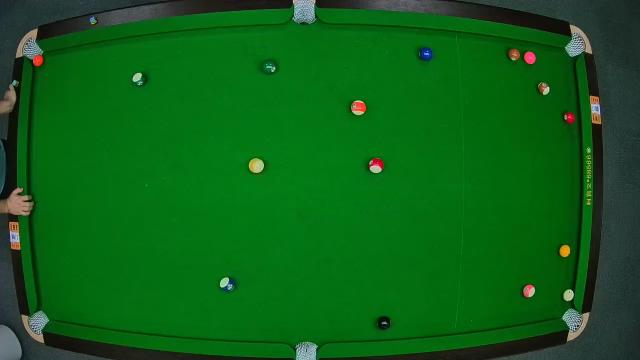bag1: (20, 40, 40, 61)
bag2: (292, 1, 316, 25)
bag3: (566, 35, 588, 55)
bag4: (28, 311, 48, 333)
bag5: (293, 340, 319, 360)
bag6: (562, 308, 582, 332)
ball0: (562, 290, 574, 302)
ball1: (559, 244, 571, 258)
ball10: (218, 276, 234, 292)
ball11: (368, 159, 384, 174)
ball12: (523, 284, 537, 298)
ball13: (351, 100, 367, 116)
ball14: (130, 72, 148, 88)
ball15: (538, 82, 550, 94)
ball2: (418, 46, 434, 62)
ball3: (560, 109, 576, 123)
ball4: (524, 51, 536, 65)
ball5: (32, 56, 44, 66)
ball6: (261, 58, 279, 74)
ball7: (506, 47, 520, 61)
ball8: (376, 316, 392, 330)
ball9: (248, 158, 264, 174)
